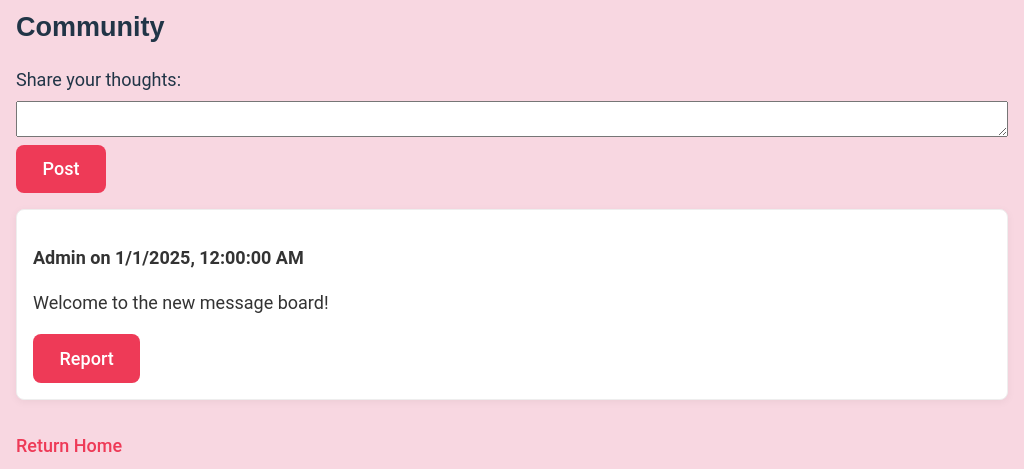
Test: CommunityPage › flags a post on report
Click the button "Report" at coordinates (87, 358), box [33,334,140,383]
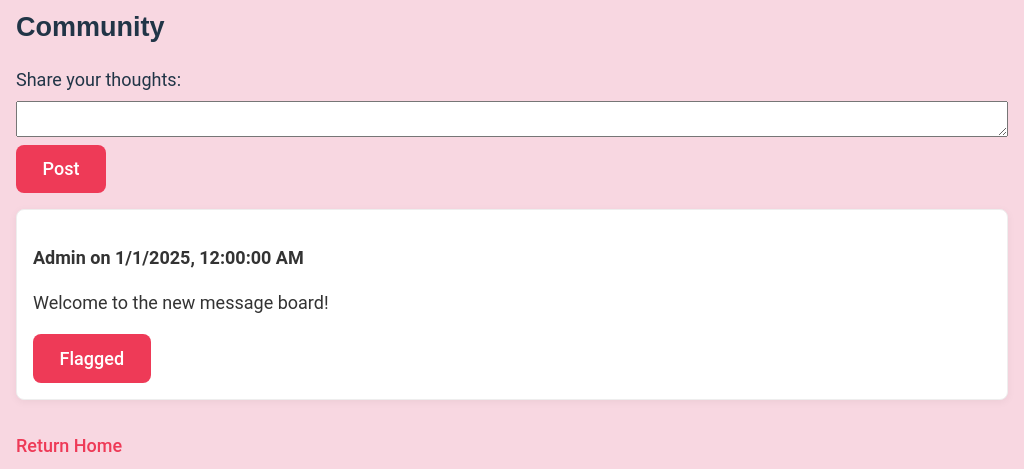
Expected: the button "Flagged" is shown, [33,334,151,383]
